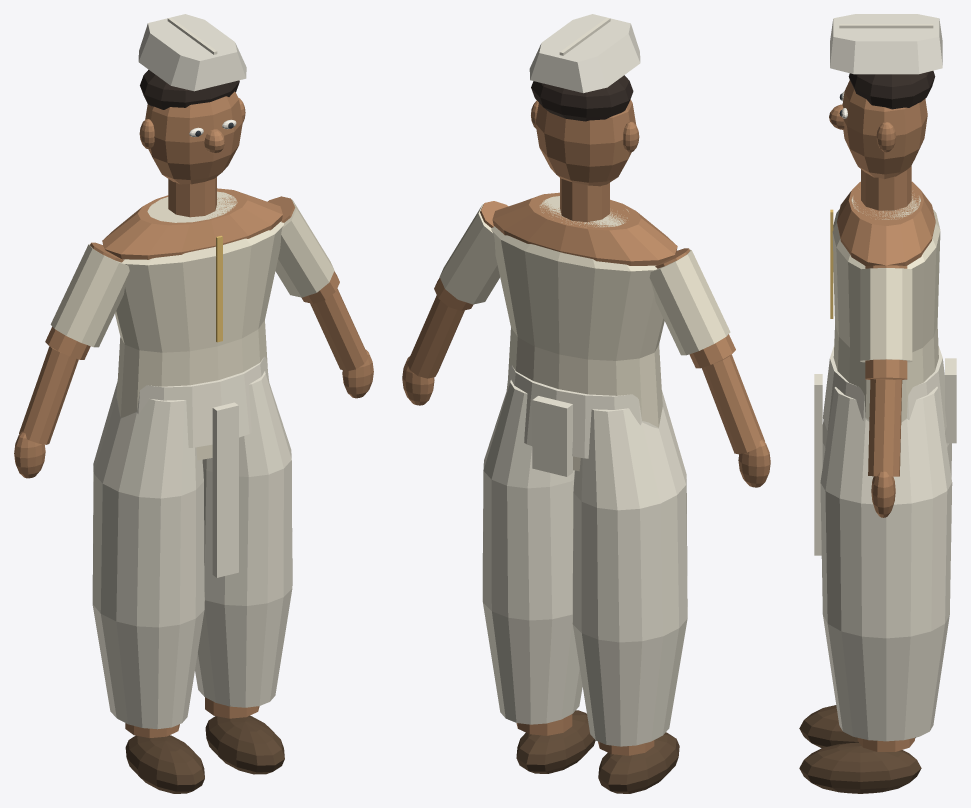
3 views of the same model, side by side, from view 1: azimuth 30°, elevation 25°; view 2: azimuth 150°, elevation 25°; view 3: azimuth 270°, elevation 25° (orthographic). The views are drawn at different scales.
Parts seen in each view (by area): view 1: dhoti_lower_-1, kurta_sadara, dhoti_lower_1, body_torso, head_original, gandhi_cap_fold_study, sleeve_-1, dhoti_front_pleat, dhoti_waist, foot_1, foot_-1, sleeve_1 (+10 smaller); view 2: dhoti_lower_-1, dhoti_lower_1, kurta_sadara, body_torso, gandhi_cap_fold_study, head_original, sleeve_-1, sleeve_1, dhoti_waist, forearm_-1, dhoti_back_tuck_study, foot_-1 (+9 smaller); view 3: dhoti_lower_1, kurta_sadara, gandhi_cap_fold_study, body_torso, head_original, sleeve_1, foot_1, forearm_1, hair_cap, dhoti_waist, neck, dhoti_front_pleat (+8 smaller).
Part boxes in pixels (x1,y1,x2,y2): dhoti_lower_-1: (92, 381, 204, 729); kurta_sadara: (115, 191, 283, 460); dhoti_lower_1: (195, 371, 292, 707); body_torso: (102, 188, 282, 259); head_original: (145, 91, 242, 184); gandhi_cap_fold_study: (138, 14, 246, 91); sleeve_-1: (50, 244, 129, 347); dhoti_front_pleat: (212, 402, 238, 577); dhoti_waist: (116, 356, 269, 447); foot_1: (205, 715, 284, 774); foot_-1: (125, 735, 204, 793); sleeve_1: (275, 199, 334, 297); dhoti_lower_-1: (572, 391, 687, 746); dhoti_lower_1: (482, 380, 582, 724); kurta_sadara: (491, 196, 664, 471); body_torso: (492, 192, 677, 265); gandhi_cap_fold_study: (529, 14, 640, 93); head_original: (535, 99, 636, 186); sleeve_-1: (649, 249, 730, 355); sleeve_1: (439, 204, 499, 304); dhoti_waist: (506, 365, 663, 458); forearm_-1: (702, 354, 764, 454); dhoti_back_tuck_study: (532, 396, 572, 476); foot_-1: (598, 732, 679, 793); dhoti_lower_1: (820, 386, 952, 741); kurta_sadara: (832, 191, 940, 422); gandhi_cap_fold_study: (830, 14, 942, 74); body_torso: (837, 181, 935, 265); head_original: (842, 80, 927, 179); sleeve_1: (860, 268, 912, 362); foot_1: (799, 742, 921, 793); forearm_1: (868, 379, 902, 476); hair_cap: (848, 71, 935, 109); dhoti_waist: (823, 345, 946, 431); neck: (861, 166, 911, 210); dhoti_front_pleat: (814, 374, 822, 555).
Bounding box in the file's own units: 0.896 × 1.75 × 0.3345.
